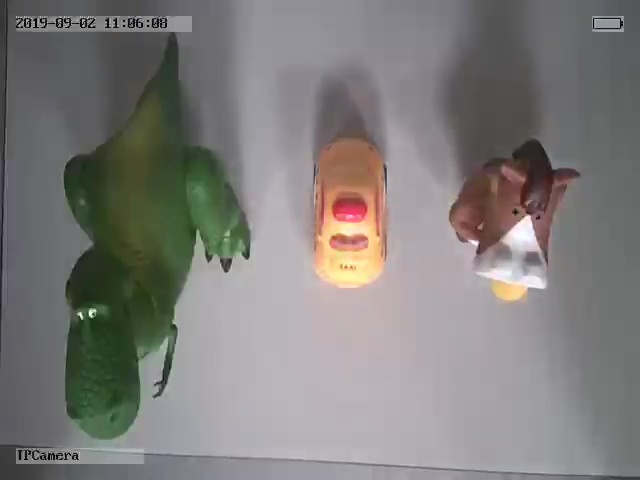car: (311, 132, 390, 289)
horse: (448, 137, 581, 304)
rex: (63, 64, 252, 440)
